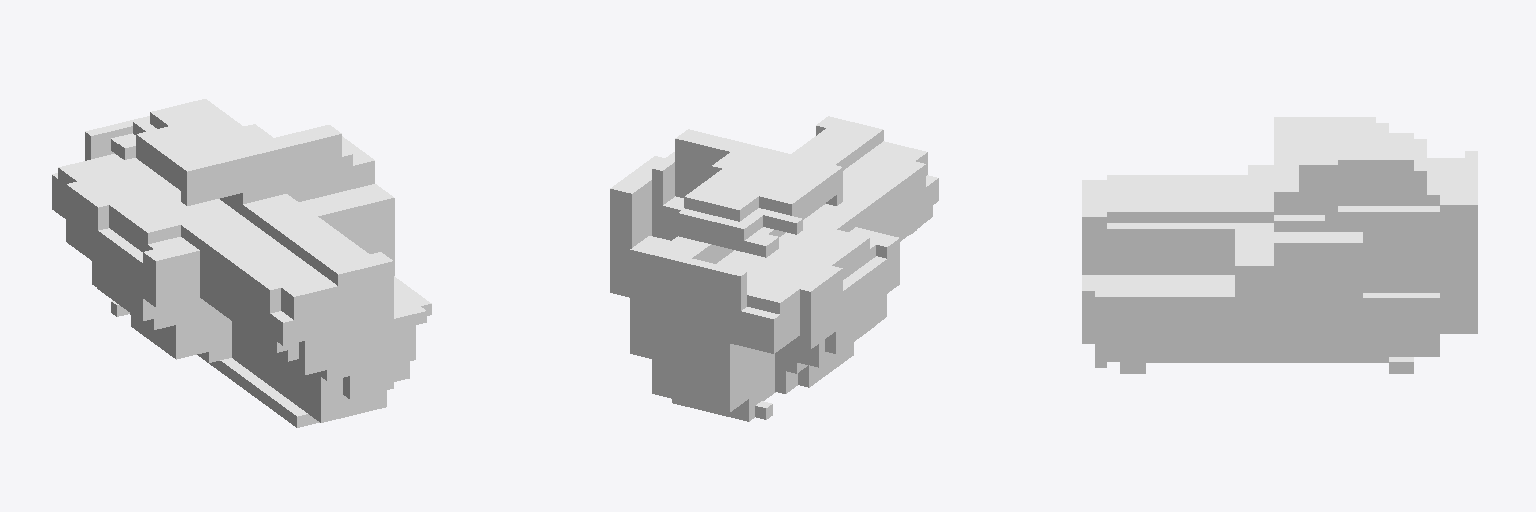
File: Cloud_01.obj
3 views of the same model, side by side, from view 1: azimuth 30°, elevation 25°; view 2: azimuth 150°, elevation 25°; view 3: azimuth 270°, elevation 25° (orthographic).
Visible parts, largest first — view 1: object 1; view 2: object 1; view 3: object 1.
Part boxes in pixels (x1,y1,x2,y2): object 1: (52,99,431,427); object 1: (610,116,938,421); object 1: (1082,117,1477,373).
Size of the model in its own units: 2.1 by 1.8 by 3.1.